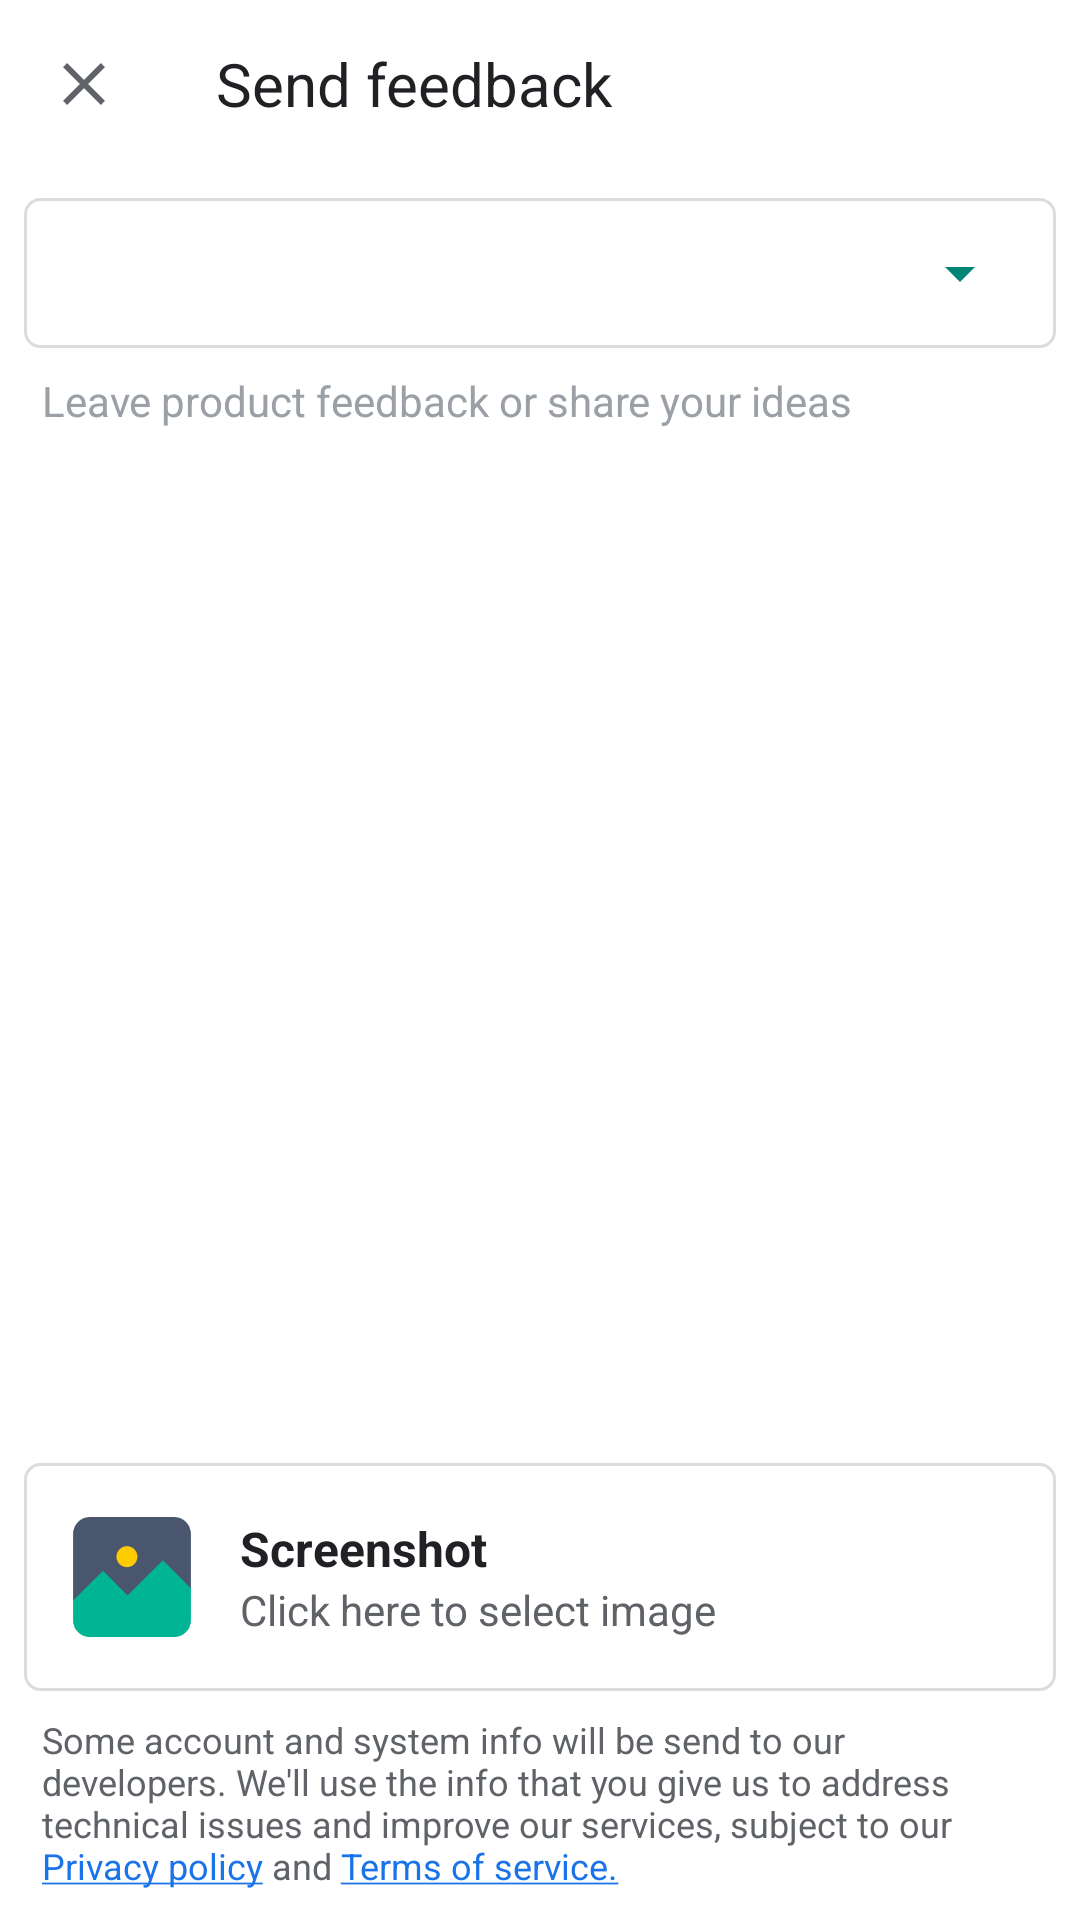

Icons on this 1080 x 1920 Android screen, each with its box as Rect(x1, y1, x2, y2):
pick: Rect(73, 1517, 191, 1637)
